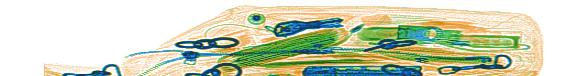USBFlashDisk: (393, 21, 463, 47)
